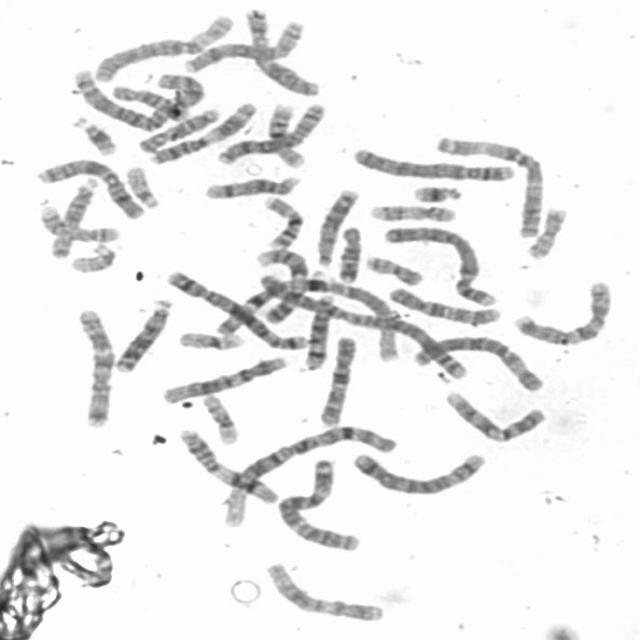A1: (214, 423, 398, 531), (253, 269, 409, 364)
A2: (249, 270, 469, 382), (66, 63, 206, 130)
A3: (431, 132, 544, 239), (274, 456, 364, 554)
B4: (377, 220, 500, 308), (348, 143, 518, 183)
B5: (160, 266, 312, 353), (348, 448, 489, 497)
C10: (383, 284, 502, 328), (314, 332, 360, 429)
C11: (176, 426, 283, 506), (145, 98, 261, 166)
C12: (260, 558, 388, 622), (157, 353, 290, 406)
C6: (89, 11, 237, 84), (406, 332, 544, 393)
C7: (510, 277, 615, 348), (72, 306, 116, 430)
C8: (211, 99, 330, 166), (179, 17, 305, 74)
C9: (212, 244, 312, 337), (438, 386, 548, 444)
D13: (110, 294, 177, 374), (309, 184, 362, 268)
D14: (300, 289, 340, 372), (199, 173, 303, 200)
D15: (46, 175, 100, 260), (132, 104, 222, 154)
E16: (263, 99, 309, 169), (258, 192, 306, 251)
E17: (34, 200, 122, 243), (365, 200, 459, 223)
E18: (108, 82, 188, 122), (333, 224, 365, 284)
F19: (196, 390, 241, 445), (174, 328, 247, 352)
F20: (523, 204, 570, 260), (361, 251, 426, 287)
G21: (68, 113, 121, 157), (406, 180, 466, 204)
G22: (122, 162, 160, 210), (66, 241, 117, 274)
X: (32, 157, 146, 221), (243, 8, 322, 98)
